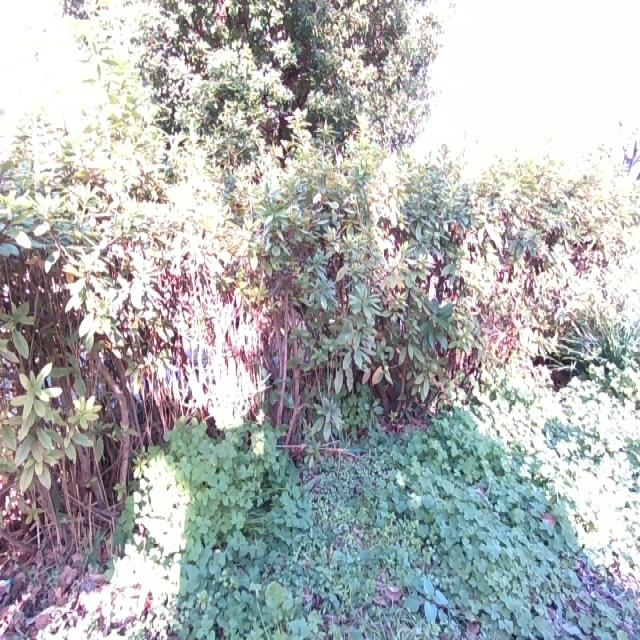bush: (9, 101, 640, 550)
